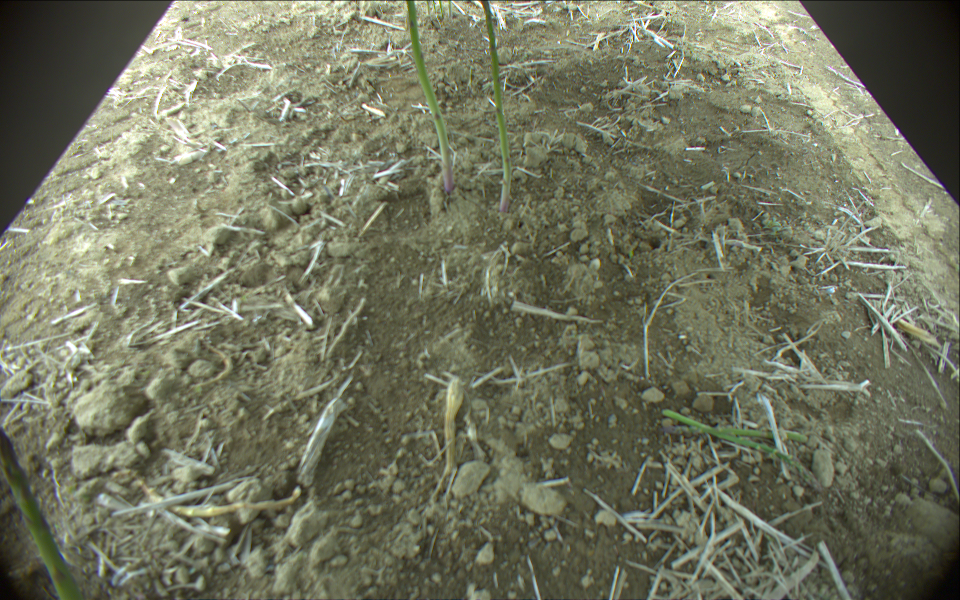aspa: (1, 422, 82, 600), (664, 409, 816, 488), (404, 1, 454, 192), (476, 1, 512, 214), (712, 429, 808, 448), (448, 1, 456, 18), (438, 1, 444, 17), (426, 1, 432, 15)
